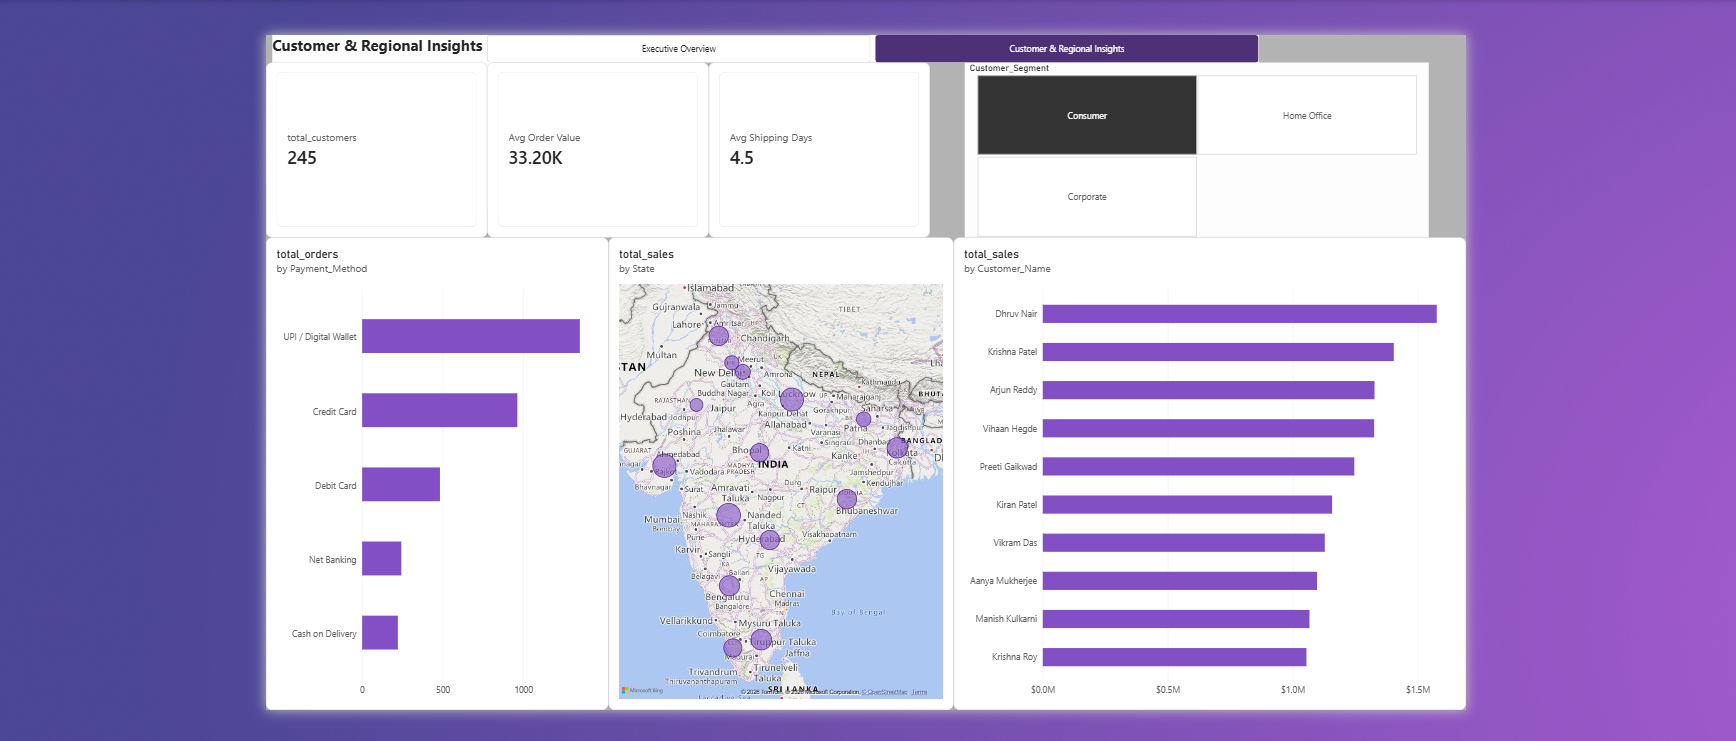

This screenshot's page, from the dashboard's own definition file:
{"tool":"powerbi","page":{"name":"Customer & Regional Insights","canvas":[1920,1080],"ordinal":1},"visuals":[{"type":"textbox","box":[10,0,354,280],"z":0},{"type":"slicer","fields":{"Values":["ecommerce_sales_data.Customer_Segment"]},"box":[1118,44,742,280],"z":1000},{"type":"cardVisual","fields":{"Data":["_measures.total_customers"]},"box":[0,44,354,280],"z":2000},{"type":"cardVisual","fields":{"Data":["_measures.Avg Shipping Days"]},"box":[708,44,354,280],"z":3000},{"type":"cardVisual","fields":{"Data":["_measures.Avg Order Value"]},"box":[354,44,354,280],"z":4000},{"type":"clusteredBarChart","fields":{"Category":["ecommerce_sales_data.Customer_Name"],"Y":["_measures.total_sales"]},"box":[1100,324,820,756],"z":5000},{"type":"map","fields":{"Category":["ecommerce_sales_data.State"],"Size":["_measures.total_sales"]},"box":[548,324,552,756],"z":6000},{"type":"clusteredBarChart","fields":{"Category":["ecommerce_sales_data.Payment_Method"],"Y":["_measures.total_orders"]},"box":[0,324,548,756],"z":7000},{"type":"pageNavigator","box":[354,0,1234,44],"z":7001}]}

Visuals, with their boxes on the page's 1920x1080 design canvas (x1, y1, x2, y2). These are canvas units, not pixel positions in the 1736x741 screenshot, which may show the page scaled, cropped or inside an application window:
textbox: region(10, 0, 364, 280)
slicer - ecommerce_sales_data.Customer_Segment: region(1118, 44, 1860, 324)
cardVisual - _measures.total_customers: region(0, 44, 354, 324)
cardVisual - _measures.Avg Shipping Days: region(708, 44, 1062, 324)
cardVisual - _measures.Avg Order Value: region(354, 44, 708, 324)
clusteredBarChart - ecommerce_sales_data.Customer_Name x _measures.total_sales: region(1100, 324, 1920, 1080)
map - ecommerce_sales_data.State x _measures.total_sales: region(548, 324, 1100, 1080)
clusteredBarChart - ecommerce_sales_data.Payment_Method x _measures.total_orders: region(0, 324, 548, 1080)
pageNavigator: region(354, 0, 1588, 44)
